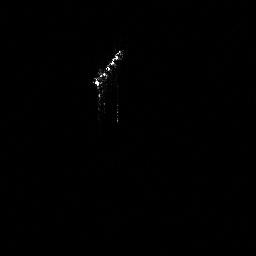ship: (89, 45, 127, 101)
